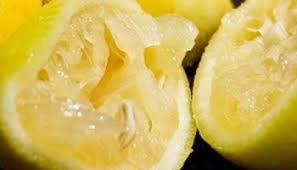Organic: (5, 4, 297, 163)
